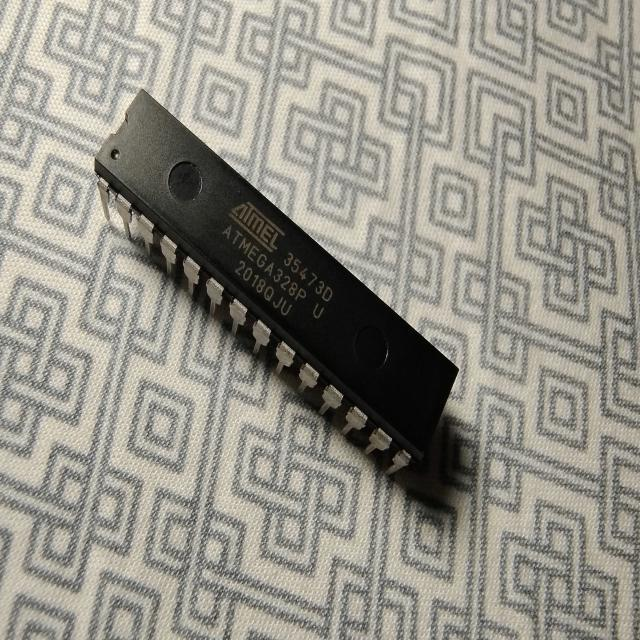atmega: (91, 84, 462, 484)
